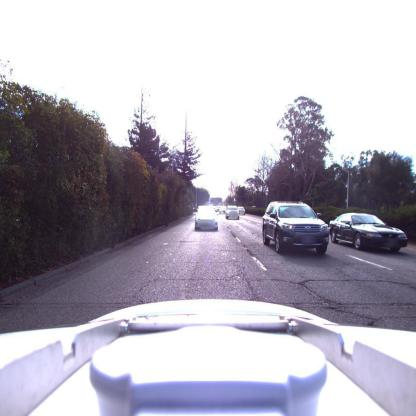car: (262, 201, 331, 256), (330, 213, 408, 254), (194, 206, 218, 232), (225, 207, 240, 220), (238, 206, 246, 216), (219, 206, 227, 214)
